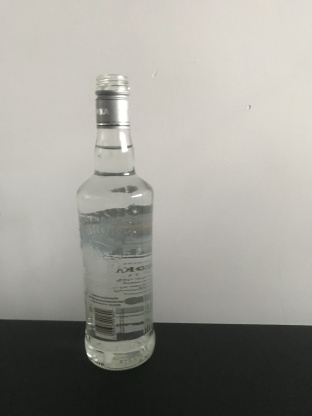nakretka: (93, 73, 131, 129)
